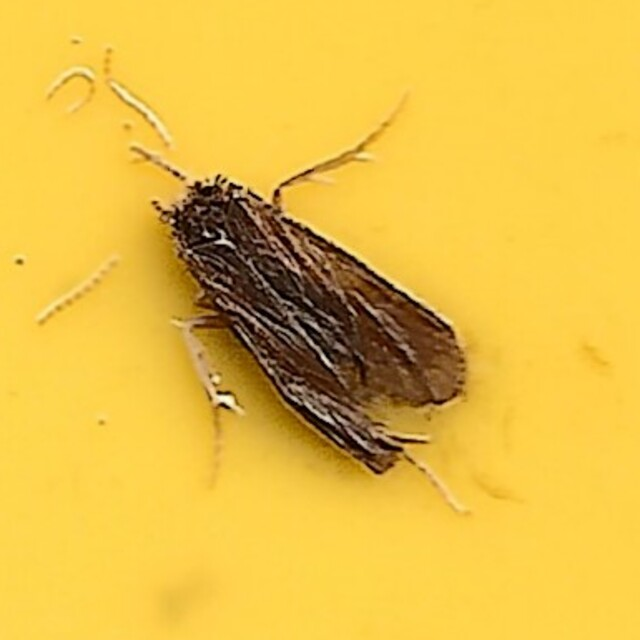Trichoptera: (166, 166, 474, 474)
